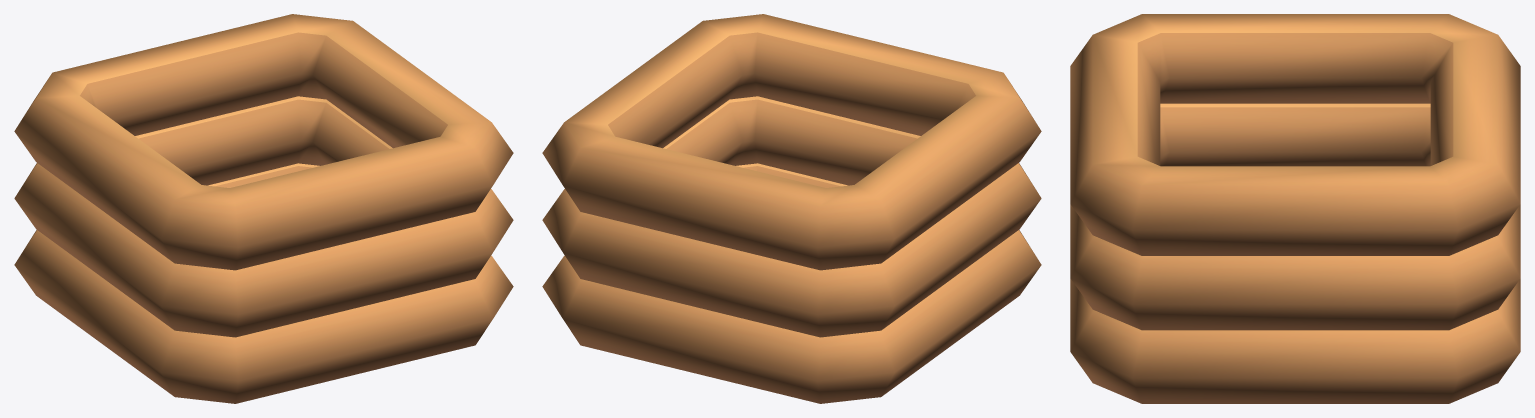
The model's file is m_deco_rope.FBX.
3 renders of one model, left to right at view 1: azimuth 30°, elevation 25°; view 2: azimuth 150°, elevation 25°; view 3: azimuth 270°, elevation 25°, orthographic. The views are drawn at different scales.
Visible parts, largest first — view 1: m_deco_rope; view 2: m_deco_rope; view 3: m_deco_rope.
Part boxes in pixels (x1,y1,x2,y2): m_deco_rope: (14,14,513,403); m_deco_rope: (542,14,1041,403); m_deco_rope: (1070,14,1520,403).
Size of the model in its own units: 1.25 by 0.6693 by 1.25.
